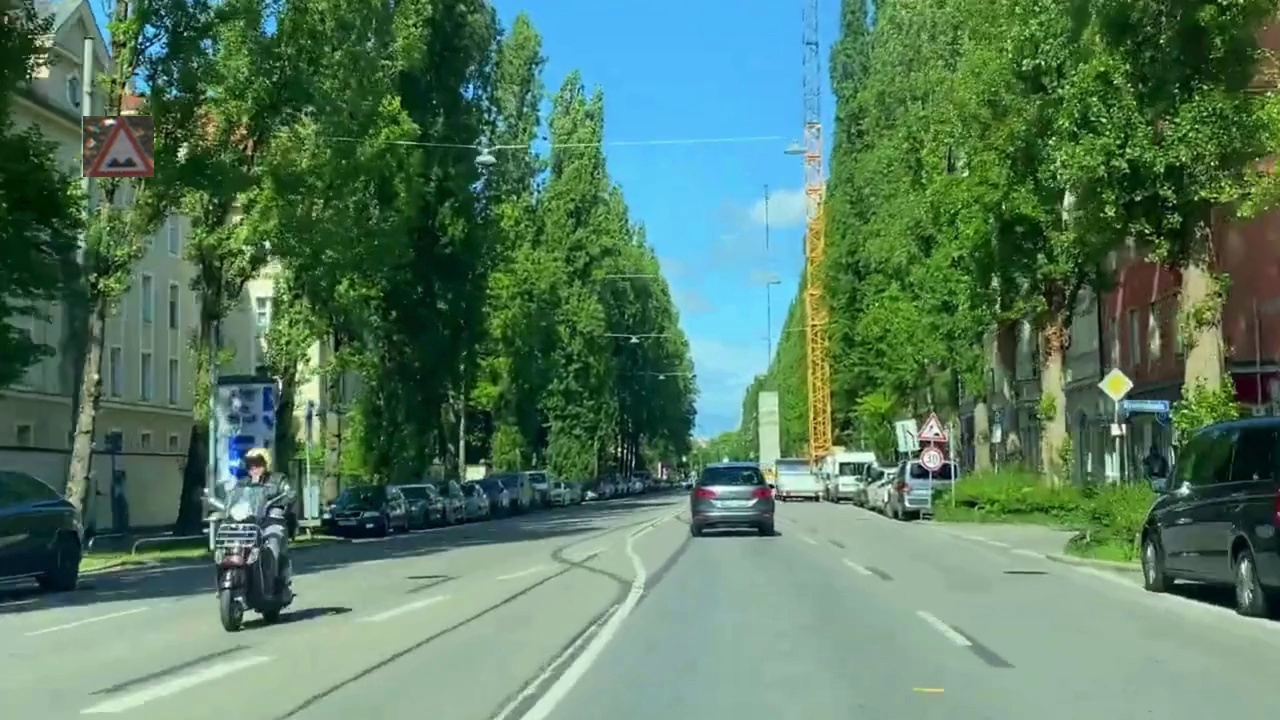Bumpy road: (83, 116, 154, 177)
